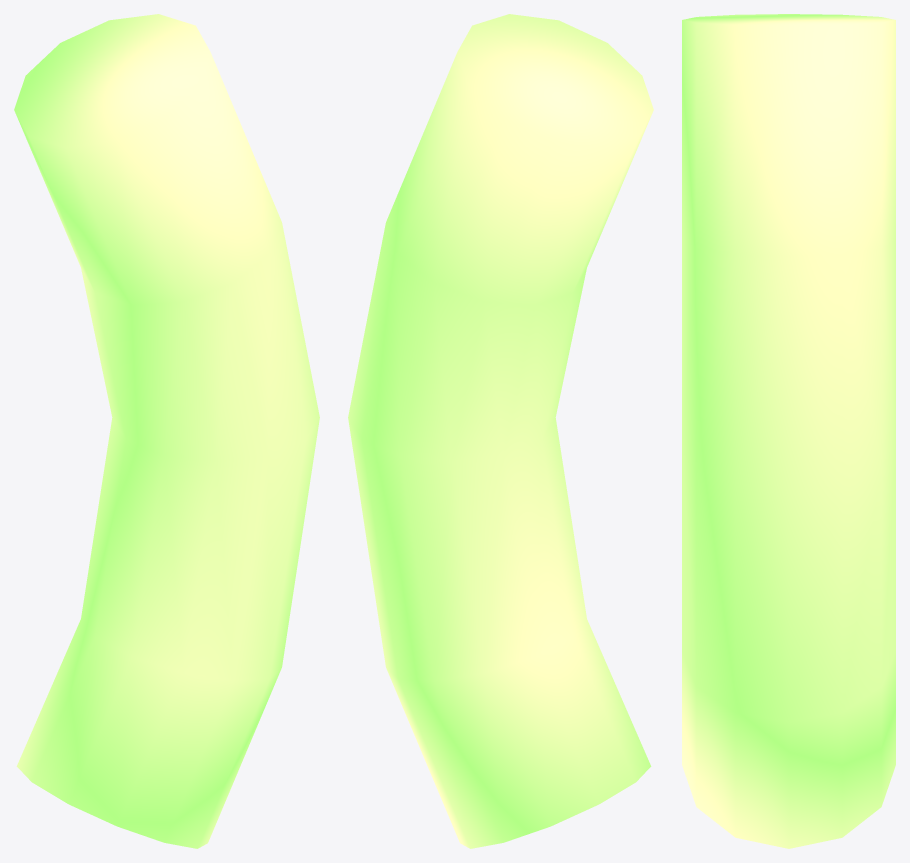
The model's file is fragment-reed-bed.glb.
3 views of the same model, side by side, from view 1: azimuth 30°, elevation 25°; view 2: azimuth 150°, elevation 25°; view 3: azimuth 270°, elevation 25° (orthographic). The views are drawn at different scales.
Visible parts, largest first — view 1: default; view 2: default; view 3: default.
Part boxes in pixels (bbox=[...]): default: bbox=[14, 14, 319, 848]; default: bbox=[348, 14, 653, 848]; default: bbox=[682, 14, 895, 848].
Size of the model in its own units: 0.0652 by 0.18 by 0.0423.
